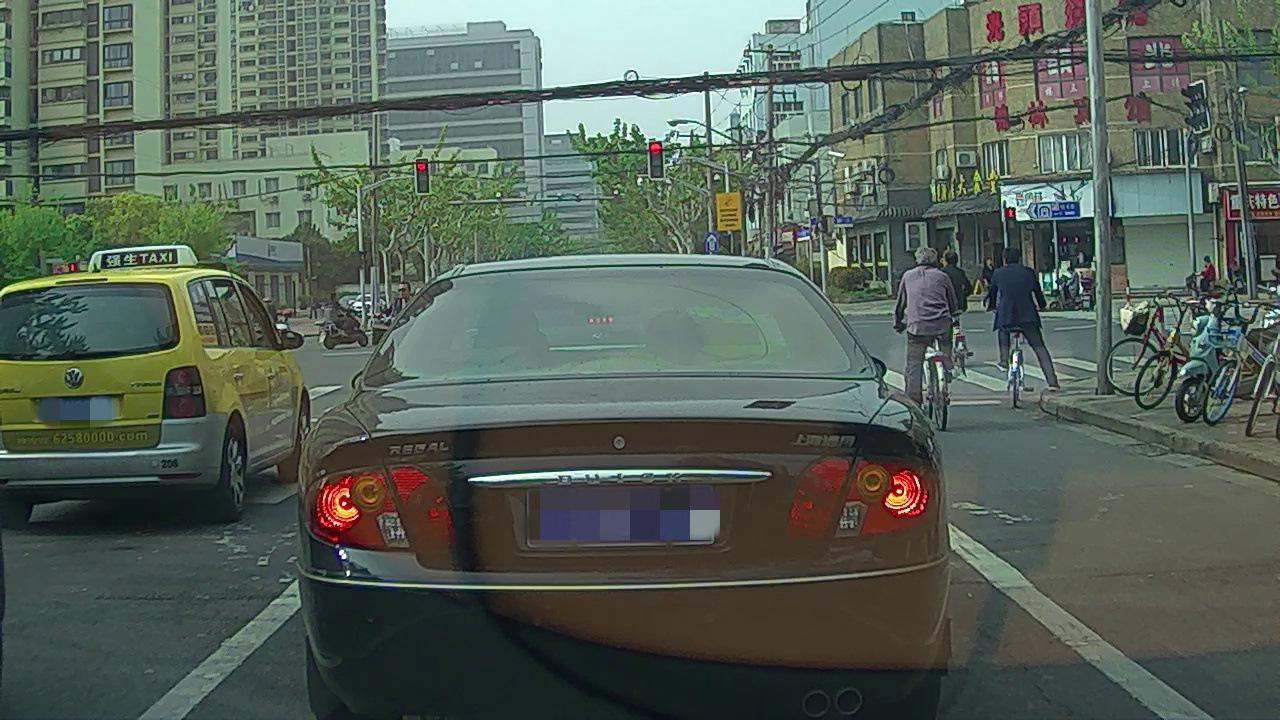traffic_light: (649, 142, 664, 179), (417, 159, 430, 193)
